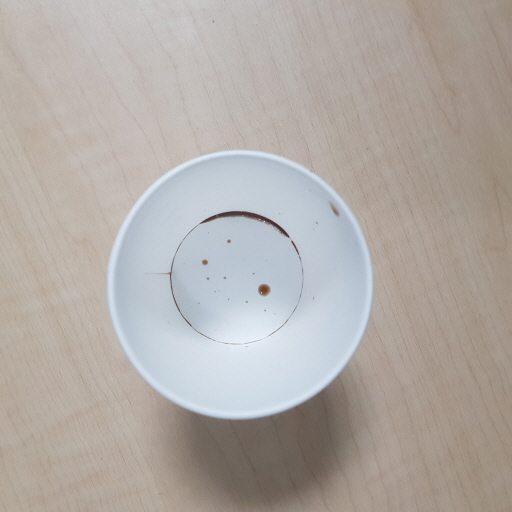Paper_1: (99, 147, 380, 416)
